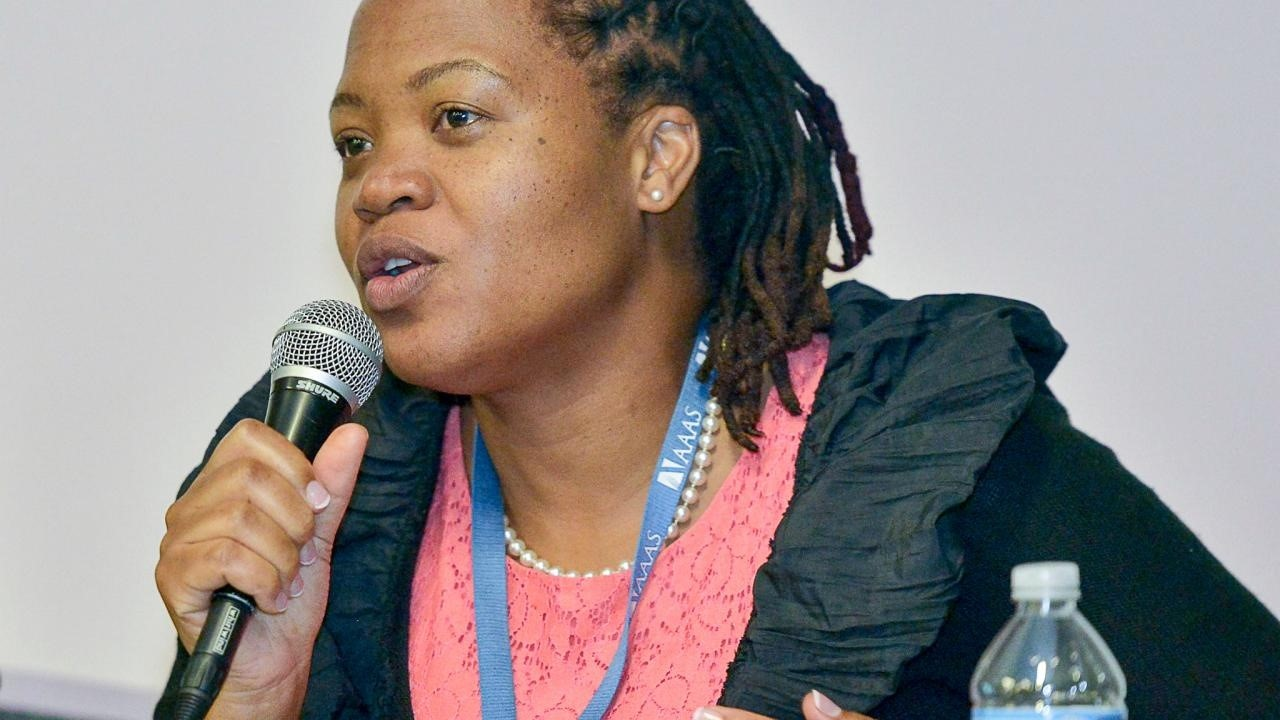face_no_mask: (330, 2, 797, 398)
